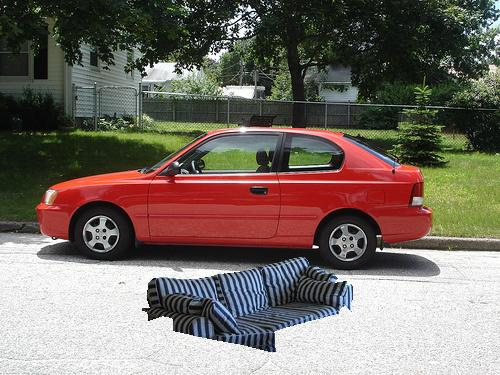tampered: (143, 258, 353, 352)
